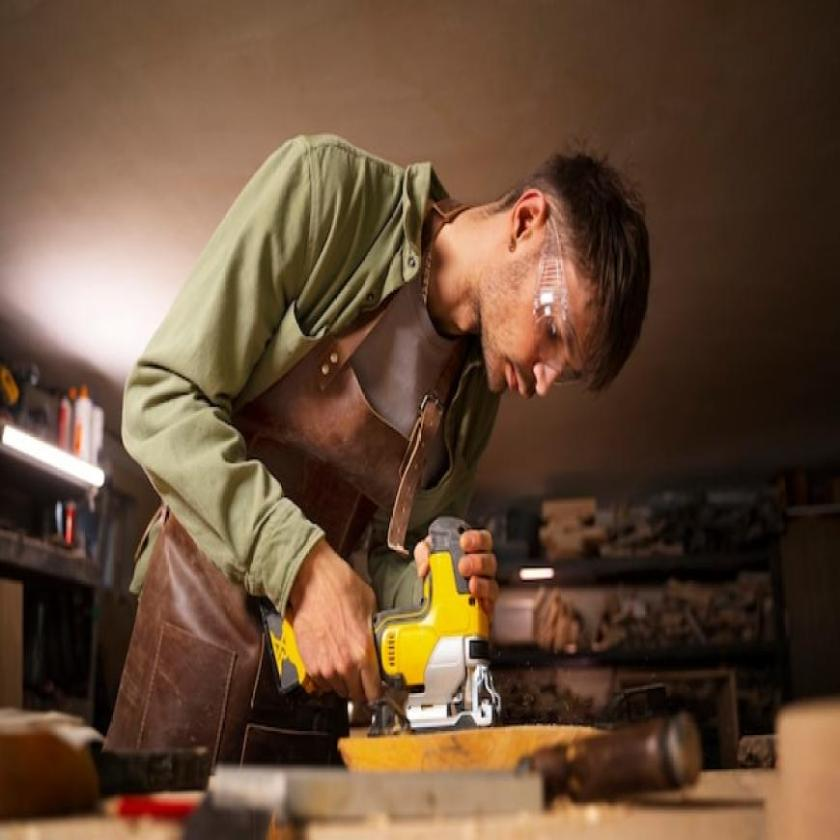Sin_casco: (444, 143, 665, 421)
